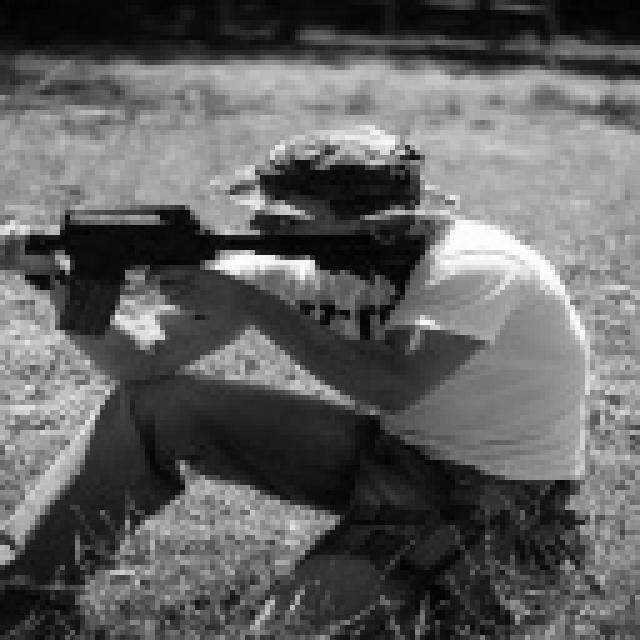Rifle: (0, 180, 460, 385)
